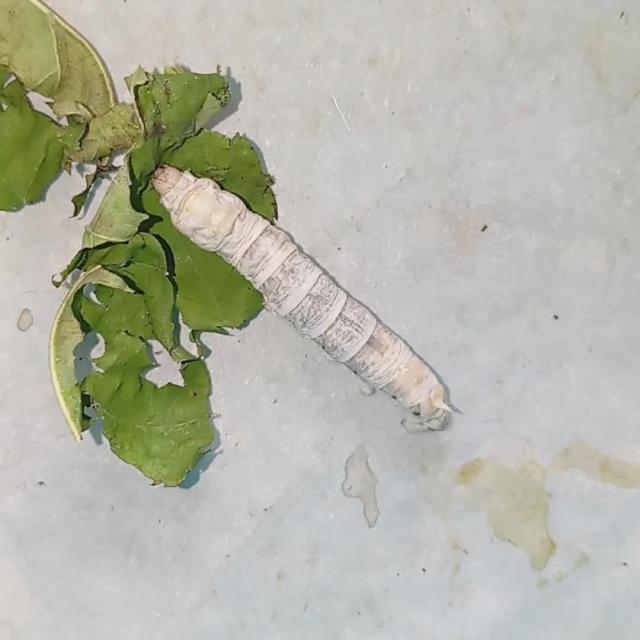Grasserie: (147, 144, 461, 438)
